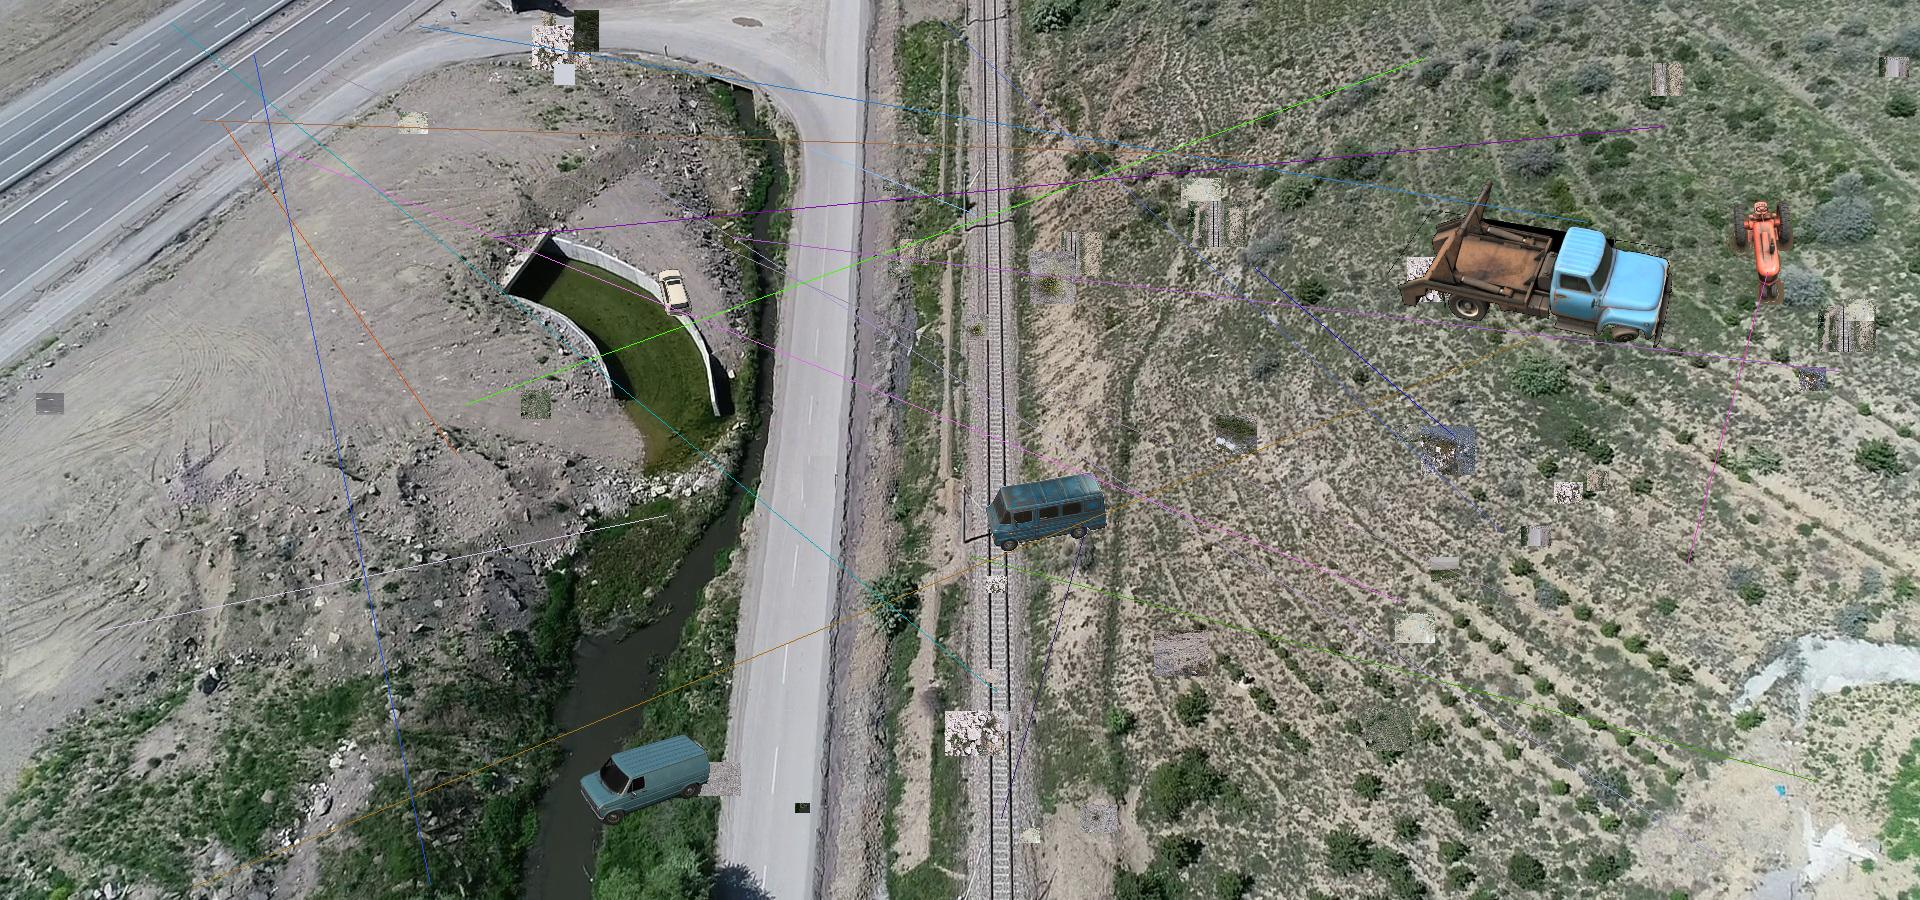arac: (1387, 173, 1673, 353), (580, 731, 711, 827), (981, 471, 1117, 553), (1727, 200, 1793, 305), (655, 269, 693, 317)
